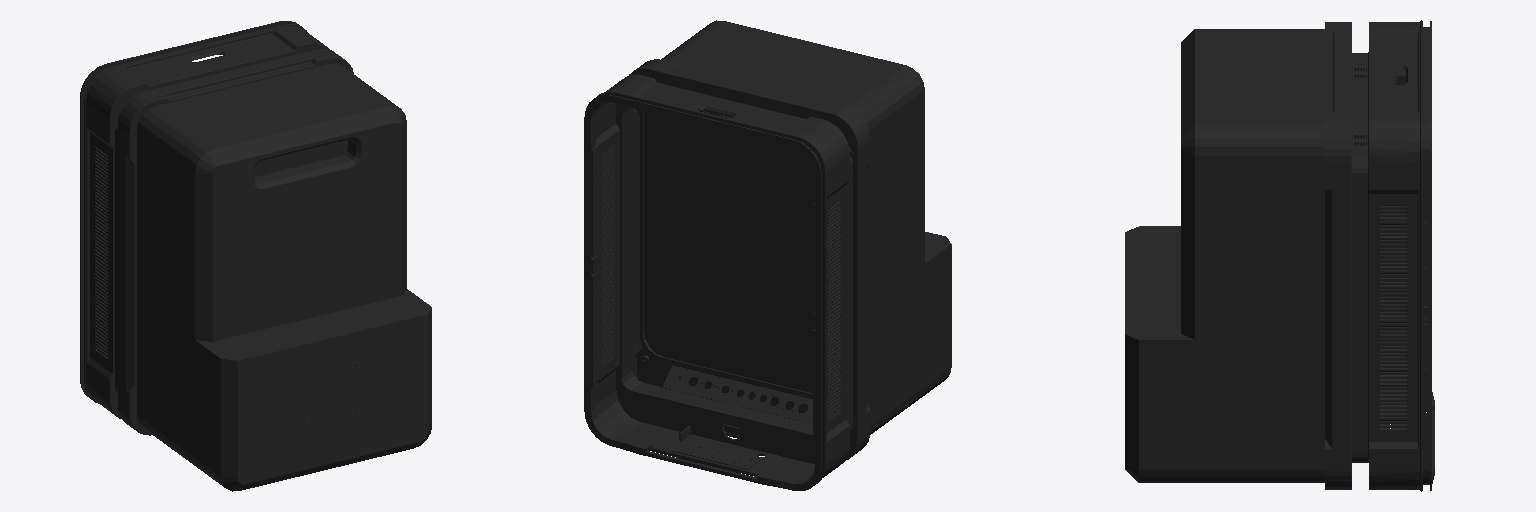
robot.urdf — lower_basement:
<?xml version="1.0"?>
<robot
  name="lower_basement">
  <link
    name="lower_base_link">
    <inertial>
      <origin
        xyz="-0.00027939 0.0051002 -0.017579"
        rpy="0 0 0" />
      <mass
        value="28.379" />
      <inertia
        ixx="2.981"
        ixy="-0.0038509"
        ixz="-0.00098344"
        iyy="2.1914"
        iyz="-0.041119"
        izz="3.3081" />
    </inertial>
    <visual>
      <origin
        xyz="0 0 0"
        rpy="0 0 0" />
      <geometry>
        <mesh
          filename="package://ur_description/meshes/basement/base_link.STL" />
      </geometry>
      <material
        name="">
        <color
          rgba="0.2 0.2 0.2 1" />
      </material>
    </visual>
    <collision>
      <origin
        xyz="0 0 0"
        rpy="0 0 0" />
      <geometry>
        <mesh
          filename="package://ur_description/meshes/basement/base_link.STL" />
      </geometry>
    </collision>
  </link>
</robot>

--- What the picture shows (computed from the rendered views, not written in the file) ---
Views: 3 orthographic renders of the robot side by side, from view 1: azimuth 30°, elevation 25°; view 2: azimuth 150°, elevation 25°; view 3: azimuth 270°, elevation 25°.
Model lower_basement with 1 links and 0 joints (none), rooted at lower_base_link, posed all joints at 0.
Links seen in each view (by area): view 1: lower_base_link; view 2: lower_base_link; view 3: lower_base_link.
Boxes of the visible links, left/top/right/bottom form: lower_base_link: left=80, top=21, right=431, bottom=491; lower_base_link: left=584, top=20, right=951, bottom=490; lower_base_link: left=1125, top=20, right=1434, bottom=491.
Bounding box of the posed robot: 0.626 × 0.6712 × 0.8965 m (x, y, z).
Meshes: 1 distinct files referenced, 1 mesh visuals loaded (1 binary STL).